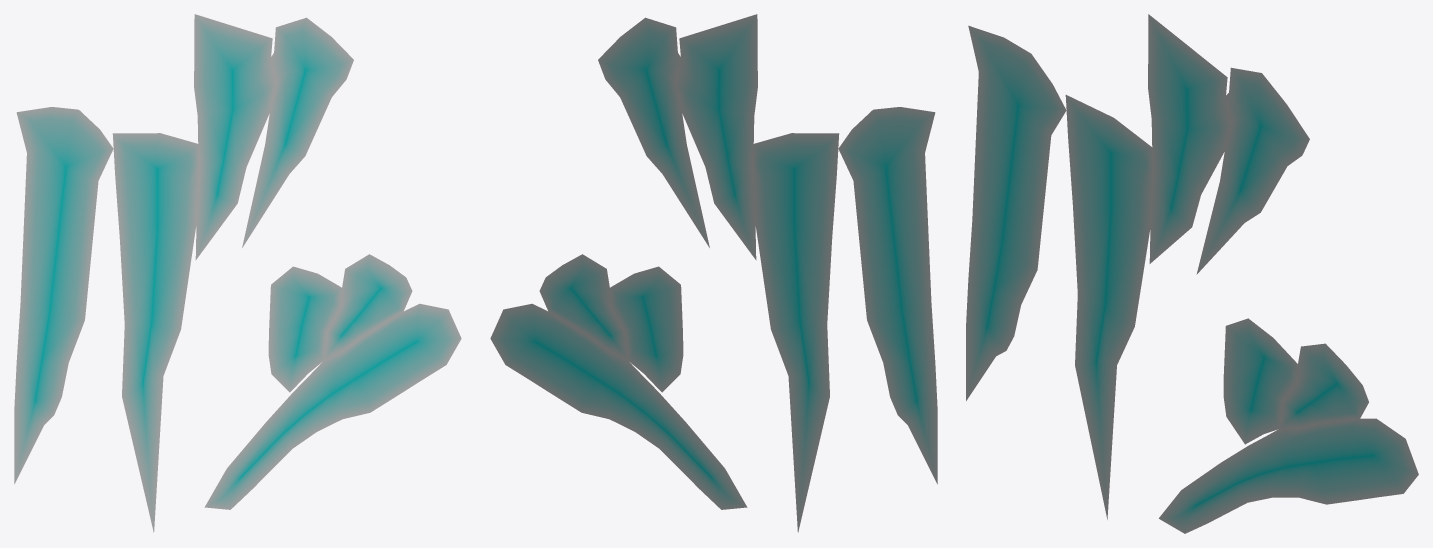
File: SM_EFF_Text_CloneShadow_A_01.glb
3 views of the same model, side by side, from view 1: azimuth 30°, elevation 25°; view 2: azimuth 150°, elevation 25°; view 3: azimuth 330°, elevation 25° (orthographic).
Parts seen in each view (by area): view 1: SM_EFF_Text_CloneShadow_A_01; view 2: SM_EFF_Text_CloneShadow_A_01; view 3: SM_EFF_Text_CloneShadow_A_01.
Part boxes in pixels (box(x1,y1,x2,y2)): SM_EFF_Text_CloneShadow_A_01: box(14, 14, 461, 532); SM_EFF_Text_CloneShadow_A_01: box(490, 14, 937, 532); SM_EFF_Text_CloneShadow_A_01: box(966, 14, 1418, 533).
Size of the model in its own units: 0.9156 by 0.9978 by 6.11e-17.
